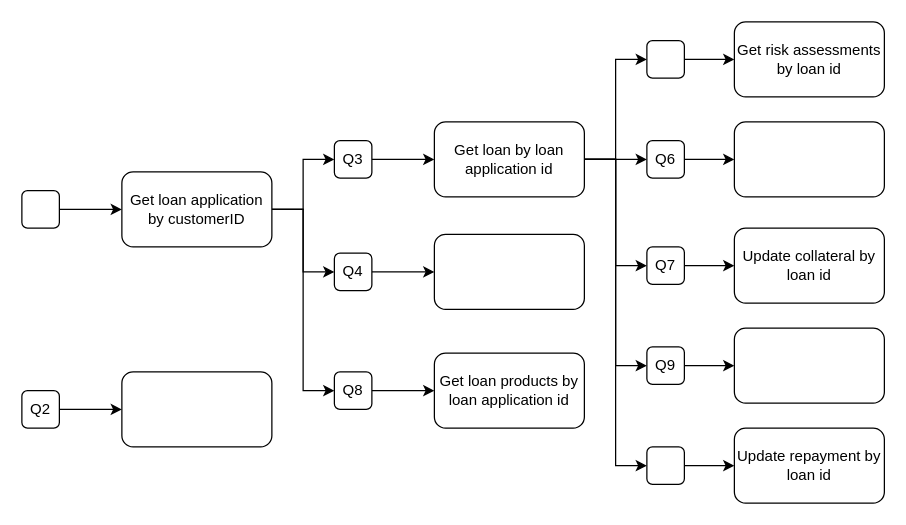
Image size: 906x525. Some labels were removed from this diagram. Here are the shapes that lost their labels. From the top down, the centre of each, then its label:
[665,58]: Q5
[808,159]: Get collateral by loan id
[40,208]: Q1
[508,271]: Create loan by loan application id
[808,365]: Update repayment schedule by loan id
[196,409]: Get bank account by customerID
[665,465]: Q10
